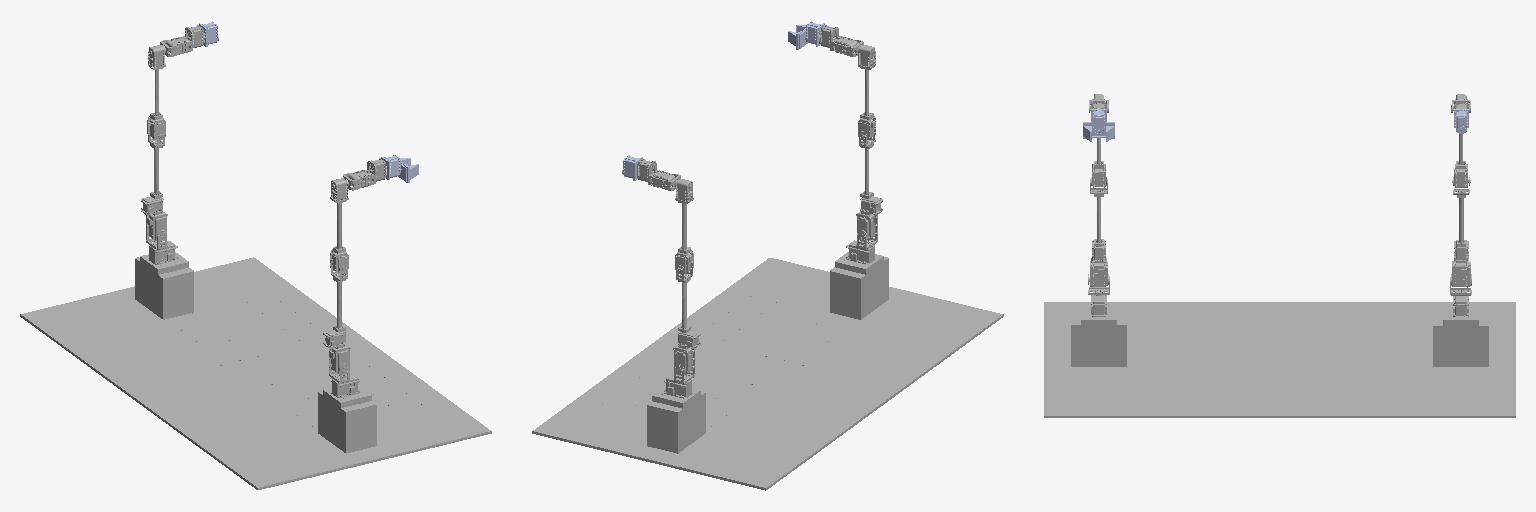
--- Facts derived from the render (not from the file) ---
Views: 3 orthographic renders of the robot side by side, from view 1: azimuth 30°, elevation 25°; view 2: azimuth 150°, elevation 25°; view 3: azimuth 270°, elevation 25°.
Robot: edy_dualarm_description — 21 links, 20 joints (16 revolute, 4 fixed); root link world; default pose: every joint at zero.
Visible links, largest first — view 1: base_link, l_link_5, r_link_5, l_link_3, r_link_3, r_link_7, l_link_7; view 2: base_link, r_link_5, l_link_5, r_link_3, l_link_3, r_link_7, l_link_7; view 3: base_link, r_link_3, l_link_3, r_link_5.
Boxes of the visible links, x1=… form: base_link: x1=20, y1=241, x2=491, y2=489; l_link_5: x1=330, y1=178, x2=348, y2=273; r_link_5: x1=147, y1=45, x2=165, y2=139; l_link_3: x1=323, y1=330, x2=350, y2=374; r_link_3: x1=141, y1=196, x2=167, y2=240; r_link_7: x1=165, y1=25, x2=204, y2=54; l_link_7: x1=348, y1=158, x2=386, y2=187; base_link: x1=532, y1=240, x2=1003, y2=490; r_link_5: x1=675, y1=179, x2=693, y2=273; l_link_5: x1=858, y1=45, x2=875, y2=139; r_link_3: x1=673, y1=330, x2=700, y2=374; l_link_3: x1=856, y1=196, x2=882, y2=240; r_link_7: x1=637, y1=159, x2=674, y2=187; l_link_7: x1=819, y1=25, x2=857, y2=54; base_link: x1=1044, y1=292, x2=1515, y2=417; r_link_3: x1=1452, y1=240, x2=1470, y2=287; l_link_3: x1=1090, y1=240, x2=1107, y2=286; r_link_5: x1=1454, y1=94, x2=1467, y2=187.
Bounding box of the posed robot: 0.665 × 1.17 × 0.7494 m (x, y, z).
Meshes: 17 distinct files referenced, 16 mesh visuals loaded (16 binary STL); not drawn: 1 (reference not matched to a file when rendering).

URDF robot description (edy_dualarm_description):
<robot
  name="edy_dualarm_description">

  <!-- the namespace of controller manager should be the same as the spawner -->
  <gazebo>
    <plugin name="gazebo_ros_control" filename="libgazebo_ros_control.so">
      <robotNamespace>/edy_dualarm</robotNamespace>
      <robotSimType>gazebo_ros_control/DefaultRobotHWSim</robotSimType>
    </plugin>
  </gazebo>

  <link name="root">
    <visual>
      <origin xyz="0 0 0" rpy="0 0 0" />
      <geometry>
        <box size = "0.001 0.001 0.001"/>
      </geometry>
    </visual>
    <collision>
      <origin xyz="0 0 0" rpy="0 0 0" />
      <geometry>
        <box size = "0.001 0.001 0.001"/> 
      </geometry>
    </collision>     
  </link>

  <!-- Used for fixing robot to Gazebo 'base_link' -->
  <link name="world"/> 
  <joint name="connect_root_and_world" type="fixed">
    <parent link="world"/>
    <child link="root"/>
    <axis xyz="0 0 0"/>
    <origin xyz="0 0 0" rpy="0 0 0" />  
  </joint>

  <joint name="root_to_base_link" type="fixed">
    <parent link="root"/>
    <child link="base_link"/>
    <axis xyz="0 0 0"/>
    <origin xyz="0 0 0" rpy="0 0 0" />  
  </joint>

  <link
    name="base_link">
    <inertial>
      <origin
        xyz="-8.44479065753578E-05 -0.000636180312193479 0.0212601142172631"
        rpy="0 0 0" />
      <mass
        value="8.7560068616092" />
      <inertia
        ixx="1.28219832311"
        ixy="-0.00000079180"
        ixz="-0.00011062669"
        iyy="0.21742745749"
        iyz="-0.00059423128"
        izz="1.47062786997" />
    </inertial>
    <visual>
      <origin
        xyz="0 0 0"
        rpy="0 0 0" />
      <geometry>
        <mesh
          filename="package://edy_dualarm_description/meshes/base_link.STL" />
      </geometry>
      <material
        name="">
        <color
          rgba="0.752941176470588 0.752941176470588 0.752941176470588 1" />
      </material>
    </visual>
    <collision>
      <origin
        xyz="0 0 0"
        rpy="0 0 0" />
      <geometry>
        <mesh
          filename="package://edy_dualarm_description/meshes/base_link.STL" />
      </geometry>
    </collision>
  </link>
  <link
    name="l_link_2">
    <inertial>
      <origin
        xyz="1.16549826041368E-05 -2.81399161389806E-05 0.0188265358893286"
        rpy="0 0 0" />
      <mass
        value="0.0114364854550291" />
      <inertia
        ixx="0.00000810165"
        ixy="0.00000001592"
        ixz="-0.00000000221"
        iyy="0.00000390726"
        iyz="0.00000000534"
        izz="0.00000615502" />
    </inertial>
    <visual>
      <origin
        xyz="0 0 0"
        rpy="0 0 0" />
      <geometry>
        <mesh
          filename="package://edy_dualarm_description/meshes/l_link_2.STL" />
      </geometry>
      <material
        name="">
        <color
          rgba="0.752941176470588 0.752941176470588 0.752941176470588 1" />
      </material>
    </visual>
    <collision>
      <origin
        xyz="0 0 0"
        rpy="0 0 0" />
      <geometry>
        <mesh
          filename="package://edy_dualarm_description/meshes/l_link_2.STL" />
      </geometry>
    </collision>
  </link>
  <joint
    name="l_joint_1"
    type="revolute">
    <origin
      xyz="-0.022394 -0.45 0.1679"
      rpy="0 0 0" />
    <parent
      link="base_link" />
    <child
      link="l_link_2" />
    <axis
      xyz="0 0 1" />
    <limit
      lower="-3.14"
      upper="3.14"
      effort="6"
      velocity="2" />
  </joint>
  <link
    name="l_link_3">
    <inertial>
      <origin
        xyz="0.00377950923156622 0.000527304140237717 -0.0366688121472651"
        rpy="0 0 0" />
      <mass
        value="0.131859897677232" />
      <inertia
        ixx="0.00015053028"
        ixy="-0.00000001139"
        ixz="-0.00001916044"
        iyy="0.00015092294"
        iyz="-0.00000034244"
        izz="0.00003716729" />
    </inertial>
    <visual>
      <origin
        xyz="0 0 0"
        rpy="0 0 0" />
      <geometry>
        <mesh
          filename="package://edy_dualarm_description/meshes/l_link_3.STL" />
      </geometry>
      <material
        name="">
        <color
          rgba="0.752941176470588 0.752941176470588 0.752941176470588 1" />
      </material>
    </visual>
    <collision>
      <origin
        xyz="0 0 0"
        rpy="0 0 0" />
      <geometry>
        <mesh
          filename="package://edy_dualarm_description/meshes/l_link_3.STL" />
      </geometry>
    </collision>
  </link>
  <joint
    name="l_joint_2"
    type="revolute">
    <origin
      xyz="0 0 0.0395"
      rpy="3.1416 0 3.1416" />
    <parent
      link="l_link_2" />
    <child
      link="l_link_3" />
    <axis
      xyz="0 1 0" />
    <limit
      lower="-1.57"
      upper="1.57"
      effort="6"
      velocity="2" />
  </joint>
  <link
    name="l_link_4">
    <inertial>
      <origin
        xyz="-2.03305933710318E-06 4.62434070702678E-07 0.08981065169112"
        rpy="0 0 0" />
      <mass
        value="0.0241054510624508" />
      <inertia
        ixx="0.00008394342"
        ixy="0.00"
        ixz="0.00000000430"
        iyy="0.00008259216"
        iyz="0.00000000076"
        izz="0.00000285999" />
    </inertial>
    <visual>
      <origin
        xyz="0 0 0"
        rpy="0 0 0" />
      <geometry>
        <mesh
          filename="package://edy_dualarm_description/meshes/l_link_4.STL" />
      </geometry>
      <material
        name="">
        <color
          rgba="0.752941176470588 0.752941176470588 0.752941176470588 1" />
      </material>
    </visual>
    <collision>
      <origin
        xyz="0 0 0"
        rpy="0 0 0" />
      <geometry>
        <mesh
          filename="package://edy_dualarm_description/meshes/l_link_4.STL" />
      </geometry>
    </collision>
  </link>
  <joint
    name="l_joint_3"
    type="revolute">
    <origin
      xyz="0 0.0005 -0.093245"
      rpy="3.1416 0 3.1416" />
    <parent
      link="l_link_3" />
    <child
      link="l_link_4" />
    <axis
      xyz="0 0 1" />
    <limit
      lower="-3.14"
      upper="3.14"
      effort="6"
      velocity="2" />
  </joint>
  <link
    name="l_link_5">
    <inertial>
      <origin
        xyz="-1.06226888885175E-05 0.000270564059653838 -0.044082243378421"
        rpy="0 0 0" />
      <mass
        value="0.10694" />
      <inertia
        ixx="0.00091666924"
        ixy="0.00000000188"
        ixz="-0.00000439289"
        iyy="0.00091692418"
        iyz="-0.00000016121"
        izz="0.00001598568" />
    </inertial>
    <visual>
      <origin
        xyz="0 0 0"
        rpy="0 0 0" />
      <geometry>
        <mesh
          filename="package://edy_dualarm_description/meshes/l_link_5.STL" />
      </geometry>
      <material
        name="">
        <color
          rgba="0.752941176470588 0.752941176470588 0.752941176470588 1" />
      </material>
    </visual>
    <collision>
      <origin
        xyz="0 0 0"
        rpy="0 0 0" />
      <geometry>
        <mesh
          filename="package://edy_dualarm_description/meshes/l_link_5.STL" />
      </geometry>
    </collision>
  </link>
  <joint
    name="l_joint_4"
    type="revolute">
    <origin
      xyz="0 0 0.176"
      rpy="3.1416 0 0" />
    <parent
      link="l_link_4" />
    <child
      link="l_link_5" />
    <axis
      xyz="0 1 0" />
    <limit
      lower="-1.57"
      upper="1.57"
      effort="6"
      velocity="2" />
  </joint>
  <link
    name="l_link_6">
    <inertial>
      <origin
        xyz="-3.18818024536149E-07 2.26992259699799E-06 0.0109195452878323"
        rpy="0 0 0" />
      <mass
        value="0.00729134298782244" />
      <inertia
        ixx="0.00000122580"
        ixy="0.00"
        ixz="-0.00000000003"
        iyy="0.00000323550"
        iyz="-0.00000000016"
        izz="0.00000287654" />
    </inertial>
    <visual>
      <origin
        xyz="0 0 0"
        rpy="0 0 0" />
      <geometry>
        <mesh
          filename="package://edy_dualarm_description/meshes/l_link_6.STL" />
      </geometry>
      <material
        name="">
        <color
          rgba="0.752941176470588 0.752941176470588 0.752941176470588 1" />
      </material>
    </visual>
    <collision>
      <origin
        xyz="0 0 0"
        rpy="0 0 0" />
      <geometry>
        <mesh
          filename="package://edy_dualarm_description/meshes/l_link_6.STL" />
      </geometry>
    </collision>
  </link>
  <joint
    name="l_joint_5"
    type="revolute">
    <origin
      xyz="0.02087 0.00025 -0.2213"
      rpy="-1.5708 0 -1.5708" />
    <parent
      link="l_link_5" />
    <child
      link="l_link_6" />
    <axis
      xyz="0 0 1" />
    <limit
      lower="-3.14"
      upper="3.14"
      effort="6"
      velocity="2" />
  </joint>
  <link
    name="l_link_7">
    <inertial>
      <origin
        xyz="-0.000229999999992903 -0.0050249094346575 0.0429672230397742"
        rpy="0 0 0" />
      <mass
        value="0.09304" />
      <inertia
        ixx="0.00008300957"
        ixy="-0.00000022060"
        ixz="0.00000107176"
        iyy="0.00007577402"
        iyz="-0.00001375580"
        izz="0.00002337891" />
    </inertial>
    <visual>
      <origin
        xyz="0 0 0"
        rpy="0 0 0" />
      <geometry>
        <mesh
          filename="package://edy_dualarm_description/meshes/l_link_7.STL" />
      </geometry>
      <material
        name="">
        <color
          rgba="0.752941176470588 0.752941176470588 0.752941176470588 1" />
      </material>
    </visual>
    <collision>
      <origin
        xyz="0 0 0"
        rpy="0 0 0" />
      <geometry>
        <mesh
          filename="package://edy_dualarm_description/meshes/l_link_7.STL" />
      </geometry>
    </collision>
  </link>
  <joint
    name="l_joint_6"
    type="revolute">
    <origin
      xyz="0 0 0.026"
      rpy="0 0 3.1416" />
    <parent
      link="l_link_6" />
    <child
      link="l_link_7" />
    <axis
      xyz="1 0 0" />
    <limit
      lower="-1.57"
      upper="1.57"
      effort="6"
      velocity="2" />
  </joint>
  <link
    name="l_link_8">
    <inertial>
      <origin
        xyz="-2.44942954807925E-13 0.0106481613936442 0.00198661888805018"
        rpy="0 0 0" />
      <mass
        value="0.04788" />
      <inertia
        ixx="0.00001520287"
        ixy="0.00000001101"
        ixz="0.00000000425"
        iyy="0.00000927752"
        iyz="0.00000007311"
        izz="0.00001238747" />
    </inertial>
    <visual>
      <origin
        xyz="0 0 0"
        rpy="0 0 0" />
      <geometry>
        <mesh
          filename="package://edy_dualarm_description/meshes/l_link_8.STL" />
      </geometry>
      <material
        name="">
        <color
          rgba="0.792156862745098 0.819607843137255 0.933333333333333 1" />
      </material>
    </visual>
    <collision>
      <origin
        xyz="0 0 0"
        rpy="0 0 0" />
      <geometry>
        <mesh
          filename="package://edy_dualarm_description/meshes/l_link_8.STL" />
      </geometry>
    </collision>
  </link>
  <joint
    name="l_joint_7"
    type="revolute">
    <origin
      xyz="-0.00023 0 0.08337"
      rpy="0 0 3.1416" />
    <parent
      link="l_link_7" />
    <child
      link="l_link_8" />
    <axis
      xyz="0 0 1" />
    <limit
      lower="-3.14"
      upper="3.14"
      effort="6"
      velocity="2" />
  </joint>
  <link
    name="l_link_9">
    <inertial>
      <origin
        xyz="2.29594121492482E-13 2.02513058054077E-05 0.0140853523121591"
        rpy="0 0 0" />
      <mass
        value="0.04238" />
      <inertia
        ixx="0.00001004655"
        ixy="0.00"
        ixz="0.00"
        iyy="0.00003436417"
        iyz="-0.00000000968"
        izz="0.00003361882" />
    </inertial>
    <visual>
      <origin
        xyz="0 0 0"
        rpy="0 0 0" />
      <geometry>
        <mesh
          filename="package://edy_dualarm_description/meshes/l_link_9.STL" />
      </geometry>
      <material
        name="">
        <color
          rgba="0.792156862745098 0.819607843137255 0.933333333333333 1" />
      </material>
    </visual>
    <collision>
      <origin
        xyz="0 0 0"
        rpy="0 0 0" />
      <geometry>
        <mesh
          filename="package://edy_dualarm_description/meshes/l_link_9.STL" />
      </geometry>
    </collision>
  </link>
  <joint
    name="l_joint_8"
    type="revolute">
    <origin
      xyz="0 0 0.039"
      rpy="0 0 3.1416" />
    <parent
      link="l_link_8" />
    <child
      link="l_link_9" />
    <axis
      xyz="0 0 1" />
    <limit
      lower="-3.14"
      upper="3.14"
      effort="6"
      velocity="2" />
  </joint>
  <link
    name="l_link_eef" />
  <joint
    name="l_joint_eef"
    type="fixed">
    <origin
      xyz="0 0 0.06739"
      rpy="0 0 0" />
    <parent
      link="l_link_8" />
    <child
      link="l_link_eef" />
    <axis
      xyz="0 0 0" />
  </joint>
  <link
    name="r_link_2">
    <inertial>
      <origin
        xyz="1.16549826068013E-05 -2.81399161204954E-05 0.0188265358893318"
        rpy="0 0 0" />
      <mass
        value="0.011436485455094" />
      <inertia
        ixx="0.00000810165"
        ixy="0.00000001592"
        ixz="-0.00000000221"
        iyy="0.00000390726"
        iyz="0.00000000534"
        izz="0.00000615502" />
    </inertial>
    <visual>
      <origin
        xyz="0 0 0"
        rpy="0 0 0" />
      <geometry>
        <mesh
          filename="package://edy_dualarm_description/meshes/r_link_2.STL" />
      </geometry>
      <material
        name="">
        <color
          rgba="0.752941176470588 0.752941176470588 0.752941176470588 1" />
      </material>
    </visual>
    <collision>
      <origin
        xyz="0 0 0"
        rpy="0 0 0" />
      <geometry>
        <mesh
          filename="package://edy_dualarm_description/meshes/r_link_2.STL" />
      </geometry>
    </collision>
  </link>
  <joint
    name="r_joint_1"
    type="revolute">
    <origin
      xyz="-0.022394 0.45 0.1669"
      rpy="0 0 0" />
    <parent
      link="base_link" />
    <child
      link="r_link_2" />
    <axis
      xyz="0 0 1" />
    <limit
      lower="-3.14"
      upper="3.14"
      effort="6"
      velocity="2" />
  </joint>
  <link
    name="r_link_3">
    <inertial>
      <origin
        xyz="0.00377950923110637 0.000527304140288232 -0.0366688121480503"
        rpy="0 0 0" />
      <mass
        value="0.131859897681141" />
      <inertia
        ixx="0.00015053028"
        ixy="-0.00000001139"
        ixz="-0.00001916044"
        iyy="0.00015092294"
        iyz="-0.00000034244"
        izz="0.00003716729" />
    </inertial>
    <visual>
      <origin
        xyz="0 0 0"
        rpy="0 0 0" />
      <geometry>
        <mesh
          filename="package://edy_dualarm_description/meshes/r_link_3.STL" />
      </geometry>
      <material
        name="">
        <color
          rgba="0.752941176470588 0.752941176470588 0.752941176470588 1" />
      </material>
    </visual>
    <collision>
      <origin
        xyz="0 0 0"
        rpy="0 0 0" />
      <geometry>
        <mesh
          filename="package://edy_dualarm_description/meshes/r_link_3.STL" />
      </geometry>
    </collision>
  </link>
  <joint
    name="r_joint_2"
    type="revolute">
    <origin
      xyz="0 0 0.0395"
      rpy="3.1416 0 3.1416" />
    <parent
      link="r_link_2" />
    <child
      link="r_link_3" />
    <axis
      xyz="0 1 0" />
    <limit
      lower="-1.57"
      upper="1.57"
      effort="6"
      velocity="2" />
  </joint>
  <link
    name="r_link_4">
    <inertial>
      <origin
        xyz="-2.03305933710318E-06 4.62434070369611E-07 0.0898106516911197"
        rpy="0 0 0" />
      <mass
        value="0.0241054510624508" />
      <inertia
        ixx="0.00008394342"
        ixy="0.00"
        ixz="0.00000000430"
        iyy="0.00008259216"
        iyz="0.00000000076"
        izz="0.00000285999" />
    </inertial>
    <visual>
      <origin
        xyz="0 0 0"
        rpy="0 0 0" />
      <geometry>
        <mesh
          filename="package://edy_dualarm_description/meshes/r_link_4.STL" />
      </geometry>
      <material
        name="">
        <color
          rgba="0.752941176470588 0.752941176470588 0.752941176470588 1" />
      </material>
    </visual>
    <collision>
      <origin
        xyz="0 0 0"
        rpy="0 0 0" />
      <geometry>
        <mesh
          filename="package://edy_dualarm_description/meshes/r_link_4.STL" />
      </geometry>
    </collision>
  </link>
  <joint
    name="r_joint_3"
    type="revolute">
    <origin
      xyz="0 0.0005 -0.093245"
      rpy="3.1416 0 3.1416" />
    <parent
      link="r_link_3" />
    <child
      link="r_link_4" />
    <axis
      xyz="0 0 1" />
    <limit
      lower="-3.14"
      upper="3.14"
      effort="6"
      velocity="2" />
  </joint>
  <link
    name="r_link_5">
    <inertial>
      <origin
        xyz="-1.06226888925143E-05 0.000270564059653644 -0.0440822433784202"
        rpy="0 0 0" />
      <mass
        value="0.10694" />
      <inertia
        ixx="0.00091666924"
        ixy="0.00000000188"
        ixz="-0.00000439289"
        iyy="0.00091692418"
        iyz="-0.00000016121"
        izz="0.00001598568" />
    </inertial>
    <visual>
      <origin
        xyz="0 0 0"
        rpy="0 0 0" />
      <geometry>
        <mesh
          filename="package://edy_dualarm_description/meshes/r_link_5.STL" />
      </geometry>
      <material
        name="">
        <color
          rgba="0.752941176470588 0.752941176470588 0.752941176470588 1" />
      </material>
    </visual>
    <collision>
      <origin
        xyz="0 0 0"
        rpy="0 0 0" />
      <geometry>
        <mesh
          filename="package://edy_dualarm_description/meshes/r_link_5.STL" />
      </geometry>
    </collision>
  </link>
  <joint
    name="r_joint_4"
    type="revolute">
    <origin
      xyz="0 0 0.176"
      rpy="3.1416 0 0" />
    <parent
      link="r_link_4" />
    <child
      link="r_link_5" />
    <axis
      xyz="0 1 0" />
    <limit
      lower="-1.57"
      upper="1.57"
      effort="6"
      velocity="2" />
  </joint>
  <link
    name="r_link_6">
    <inertial>
      <origin
        xyz="-3.18818018540945E-07 2.26992259722003E-06 0.0109195452878321"
        rpy="0 0 0" />
      <mass
        value="0.00729134298782232" />
      <inertia
        ixx="0.00000122580"
        ixy="0.00"
        ixz="-0.00000000003"
        iyy="0.00000323550"
        iyz="-0.00000000016"
        izz="0.00000287654" />
    </inertial>
    <visual>
      <origin
        xyz="0 0 0"
        rpy="0 0 0" />
      <geometry>
        <mesh
          filename="package://edy_dualarm_description/meshes/r_link_6.STL" />
      </geometry>
      <material
        name="">
        <color
          rgba="0.752941176470588 0.752941176470588 0.752941176470588 1" />
      </material>
    </visual>
    <collision>
      <origin
        xyz="0 0 0"
        rpy="0 0 0" />
      <geometry>
        <mesh
          filename="package://edy_dualarm_description/meshes/r_link_6.STL" />
      </geometry>
    </collision>
  </link>
  <joint
    name="r_joint_5"
    type="revolute">
    <origin
      xyz="0.02087 0.00025 -0.2213"
      rpy="-1.5708 0 -1.5708" />
    <parent
      link="r_link_5" />
    <child
      link="r_link_6" />
    <axis
      xyz="0 0 1" />
    <limit
      lower="-3.14"
      upper="3.14"
      effort="6"
      velocity="2" />
  </joint>
  <link
    name="r_link_7">
    <inertial>
      <origin
        xyz="-0.000229999999997732 -0.00502490943466483 0.0429672230397593"
        rpy="0 0 0" />
      <mass
        value="0.09304" />
      <inertia
        ixx="0.00008300957"
        ixy="-0.00000022060"
        ixz="0.00000107176"
        iyy="0.00007577402"
        iyz="-0.00001375580"
        izz="0.00002337891" />
    </inertial>
    <visual>
      <origin
        xyz="0 0 0"
        rpy="0 0 0" />
      <geometry>
        <mesh
          filename="package://edy_dualarm_description/meshes/r_link_7.STL" />
      </geometry>
      <material
        name="">
        <color
          rgba="0.752941176470588 0.752941176470588 0.752941176470588 1" />
      </material>
    </visual>
    <collision>
      <origin
        xyz="0 0 0"
        rpy="0 0 0" />
      <geometry>
        <mesh
          filename="package://edy_dualarm_description/meshes/r_link_7.STL" />
      </geometry>
    </collision>
  </link>
  <joint
    name="r_joint_6"
    type="revolute">
    <origin
      xyz="0 0 0.026"
      rpy="0 0 3.1416" />
    <parent
      link="r_link_6" />
    <child
      link="r_link_7" />
    <axis
      xyz="1 0 0" />
    <limit
      lower="-1.57"
      upper="1.57"
      effort="6"
      velocity="2" />
  </joint>
  <link
    name="r_link_8">
    <inertial>
      <origin
        xyz="-2.35589325825458E-13 0.0106481613936613 0.00198661888802865"
        rpy="0 0 0" />
      <mass
        value="0.04788" />
      <inertia
        ixx="0.00001520287"
        ixy="0.00000001101"
        ixz="0.00000000425"
        iyy="0.00000927752"
        iyz="0.00000007311"
        izz="0.00001238747" />
    </inertial>
    <visual>
      <origin
        xyz="0 0 0"
        rpy="0 0 0" />
      <geometry>
        <mesh
          filename="package://edy_dualarm_description/meshes/r_link_8.STL" />
      </geometry>
      <material
        name="">
        <color
          rgba="0.792156862745098 0.819607843137255 0.933333333333333 1" />
      </material>
    </visual>
    <collision>
      <origin
        xyz="0 0 0"
        rpy="0 0 0" />
      <geometry>
        <mesh
          filename="package://edy_dualarm_description/meshes/r_link_8.STL" />
      </geometry>
    </collision>
  </link>
  <joint
    name="r_joint_7"
    type="revolute">
    <origin
      xyz="-0.00023 0 0.08337"
      rpy="0 0 3.1416" />
    <parent
      link="r_link_7" />
    <child
      link="r_link_8" />
    <axis
      xyz="0 0 1" />
    <limit
      lower="-3.14"
      upper="3.14"
      effort="6"
      velocity="2" />
  </joint>
  <link
    name="r_link_9">
    <inertial>
      <origin
        xyz="2.29594121492482E-13 2.02513058054077E-05 0.0140853523121591"
        rpy="0 0 0" />
      <mass
        value="0.0423839787748426" />
      <inertia
        ixx="0.00001004655"
        ixy="0.00"
        ixz="0.00"
        iyy="0.00003436417"
        iyz="-0.00000000968"
        izz="0.00003361882" />
    </inertial>
    <visual>
      <origin
        xyz="0 0 0"
        rpy="0 0 0" />
      <geometry>
        <mesh
          filename="package://edy_dualarm_description/meshes/r_link_9.STL" />
      </geometry>
      <material
        name="">
        <color
          rgba="0.792156862745098 0.819607843137255 0.933333333333333 1" />
      </material>
    </visual>
    <collision>
      <origin
        xyz="0 0 0"
        rpy="0 0 0" />
      <geometry>
        <mesh
          filename="package://edy_dualarm_description/meshes/r_link_9.STL" />
      </geometry>
    </collision>
  </link>
  <joint
    name="r_joint_8"
    type="revolute">
    <origin
      xyz="0 0 0.039"
      rpy="0 0 3.1416" />
    <parent
      link="r_link_8" />
    <child
      link="r_link_9" />
    <axis
      xyz="0 0 1" />
    <limit
      lower="-3.14"
      upper="3.14"
      effort="6"
      velocity="2" />
  </joint>
  <link
    name="r_link_eef" />
  <joint
    name="r_joint_eef"
    type="fixed">
    <origin
      xyz="0 0 0.06739"
      rpy="0 0 0" />
    <parent
      link="r_link_8" />
    <child
      link="r_link_eef" />
    <axis
      xyz="0 0 0" />
  </joint>

  <gazebo reference="base_link">
    <turnGravityOff>False</turnGravityOff>
    <selfCollide>False</selfCollide>
  </gazebo>
  <gazebo reference="l_link_2">
    <turnGravityOff>False</turnGravityOff>
    <selfCollide>False</selfCollide>
  </gazebo>
  <gazebo reference="l_link_3">
    <turnGravityOff>False</turnGravityOff>
    <selfCollide>False</selfCollide>
  </gazebo>
  <gazebo reference="l_link_4">
    <turnGravityOff>False</turnGravityOff>
    <selfCollide>False</selfCollide>
  </gazebo>
  <gazebo reference="l_link_5">
    <turnGravityOff>False</turnGravityOff>
    <selfCollide>False</selfCollide>
  </gazebo>
  <gazebo reference="l_link_6">
    <turnGravityOff>False</turnGravityOff>
    <selfCollide>False</selfCollide>
  </gazebo>
  <gazebo reference="l_link_7">
    <turnGravityOff>False</turnGravityOff>
    <selfCollide>False</selfCollide>
  </gazebo>
  <gazebo reference="l_link_8">
    <turnGravityOff>False</turnGravityOff>
    <selfCollide>False</selfCollide>
  </gazebo>
  <gazebo reference="l_link_9">
    <turnGravityOff>False</turnGravityOff>
    <selfCollide>False</selfCollide>
  </gazebo>
  <gazebo reference="r_link_2">
    <turnGravityOff>False</turnGravityOff>
    <selfCollide>False</selfCollide>
  </gazebo>
  <gazebo reference="r_link_3">
    <turnGravityOff>False</turnGravityOff>
    <selfCollide>False</selfCollide>
  </gazebo>
  <gazebo reference="r_link_4">
    <turnGravityOff>False</turnGravityOff>
    <selfCollide>False</selfCollide>
  </gazebo>
  <gazebo reference="r_link_5">
    <turnGravityOff>False</turnGravityOff>
    <selfCollide>False</selfCollide>
  </gazebo>
  <gazebo reference="r_link_6">
    <turnGravityOff>False</turnGravityOff>
    <selfCollide>False</selfCollide>
  </gazebo>
  <gazebo reference="r_link_7">
    <turnGravityOff>False</turnGravityOff>
    <selfCollide>False</selfCollide>
  </gazebo>
  <gazebo reference="r_link_8">
    <turnGravityOff>False</turnGravityOff>
    <selfCollide>False</selfCollide>
  </gazebo>
  <gazebo reference="r_link_9">
    <turnGravityOff>False</turnGravityOff>
    <selfCollide>False</selfCollide>
  </gazebo>

  <gazebo reference="l_joint_1">
    <implicitSpringDamper>True</implicitSpringDamper>
  </gazebo>
  <gazebo reference="l_joint_2">
    <implicitSpringDamper>True</implicitSpringDamper>
  </gazebo>
  <gazebo reference="l_joint_3">
    <implicitSpringDamper>True</implicitSpringDamper>
  </gazebo>
  <gazebo reference="l_joint_4">
    <implicitSpringDamper>True</implicitSpringDamper>
  </gazebo>
  <gazebo reference="l_joint_5">
    <implicitSpringDamper>True</implicitSpringDamper>
  </gazebo>
  <gazebo reference="l_joint_6">
    <implicitSpringDamper>True</implicitSpringDamper>
  </gazebo>
  <gazebo reference="l_joint_7">
    <implicitSpringDamper>True</implicitSpringDamper>
  </gazebo>
  <gazebo reference="l_joint_8">
    <implicitSpringDamper>True</implicitSpringDamper>
  </gazebo>
  <gazebo reference="r_joint_1">
    <implicitSpringDamper>True</implicitSpringDamper>
  </gazebo>
  <gazebo reference="r_joint_2">
    <implicitSpringDamper>True</implicitSpringDamper>
  </gazebo>
  <gazebo reference="r_joint_3">
    <implicitSpringDamper>True</implicitSpringDamper>
  </gazebo>
  <gazebo reference="r_joint_4">
    <implicitSpringDamper>True</implicitSpringDamper>
  </gazebo>
  <gazebo reference="r_joint_5">
    <implicitSpringDamper>True</implicitSpringDamper>
  </gazebo>
  <gazebo reference="r_joint_6">
    <implicitSpringDamper>True</implicitSpringDamper>
  </gazebo>
  <gazebo reference="r_joint_7">
    <implicitSpringDamper>True</implicitSpringDamper>
  </gazebo>
  <gazebo reference="r_joint_8">
    <implicitSpringDamper>True</implicitSpringDamper>
  </gazebo>

  <!-- transmission that link actuators to joints-->
  <transmission name="l_tran1">
    <type>transmission_interface/SimpleTransmission</type>
    <joint name="l_joint_1">
      <hardwareInterface>EffortJointInterface</hardwareInterface>
    </joint>
    <actuator name="l_motor_1">
      <hardwareInterface>EffortJointInterface</hardwareInterface>
      <mechanicalReduction>1</mechanicalReduction>
    </actuator>
  </transmission>

  <transmission name="l_tran2">
    <type>transmission_interface/SimpleTransmission</type>
    <joint name="l_joint_2">
      <hardwareInterface>EffortJointInterface</hardwareInterface>
    </joint>
    <actuator name="l_motor_2">
      <hardwareInterface>EffortJointInterface</hardwareInterface>
      <mechanicalReduction>1</mechanicalReduction>
    </actuator>
  </transmission>

  <transmission name="l_tran3">
    <type>transmission_interface/SimpleTransmission</type>
    <joint name="l_joint_3">
      <hardwareInterface>EffortJointInterface</hardwareInterface>
    </joint>
    <actuator name="l_motor_3">
      <hardwareInterface>EffortJointInterface</hardwareInterface>
      <mechanicalReduction>1</mechanicalReduction>
    </actuator>
  </transmission>

  <transmission name="l_tran4">
    <type>transmission_interface/SimpleTransmission</type>
    <joint name="l_joint_4">
      <hardwareInterface>EffortJointInterface</hardwareInterface>
    </joint>
    <actuator name="l_motor_4">
      <hardwareInterface>EffortJointInterface</hardwareInterface>
      <mechanicalReduction>1</mechanicalReduction>
    </actuator>
  </transmission>

  <transmission name="l_tran5">
    <type>transmission_interface/SimpleTransmission</type>
    <joint name="l_joint_5">
      <hardwareInterface>EffortJointInterface</hardwareInterface>
    </joint>
    <actuator name="l_motor_5">
      <hardwareInterface>EffortJointInterface</hardwareInterface>
      <mechanicalReduction>1</mechanicalReduction>
    </actuator>
  </transmission>

  <transmission name="l_tran6">
    <type>transmission_interface/SimpleTransmission</type>
    <joint name="l_joint_6">
      <hardwareInterface>EffortJointInterface</hardwareInterface>
    </joint>
    <actuator name="l_motor_6">
      <hardwareInterface>EffortJointInterface</hardwareInterface>
      <mechanicalReduction>1</mechanicalReduction>
    </actuator>
  </transmission>

  <transmission name="l_tran7">
    <type>transmission_interface/SimpleTransmission</type>
    <joint name="l_joint_7">
      <hardwareInterface>EffortJointInterface</hardwareInterface>
    </joint>
    <actuator name="l_motor_7">
      <hardwareInterface>EffortJointInterface</hardwareInterface>
      <mechanicalReduction>1</mechanicalReduction>
    </actuator>
  </transmission>

  <transmission name="l_tran8">
    <type>transmission_interface/SimpleTransmission</type>
    <joint name="l_joint_8">
      <hardwareInterface>EffortJointInterface</hardwareInterface>
    </joint>
    <actuator name="l_motor_8">
      <hardwareInterface>EffortJointInterface</hardwareInterface>
      <mechanicalReduction>1</mechanicalReduction>
    </actuator>
  </transmission>
 <transmission name="r_tran1">
    <type>transmission_interface/SimpleTransmission</type>
    <joint name="r_joint_1">
      <hardwareInterface>EffortJointInterface</hardwareInterface>
    </joint>
    <actuator name="r_motor_1">
      <hardwareInterface>EffortJointInterface</hardwareInterface>
      <mechanicalReduction>1</mechanicalReduction>
    </actuator>
  </transmission>

  <transmission name="r_tran2">
    <type>transmission_interface/SimpleTransmission</type>
    <joint name="r_joint_2">
      <hardwareInterface>EffortJointInterface</hardwareInterface>
    </joint>
    <actuator name="r_motor_2">
      <hardwareInterface>EffortJointInterface</hardwareInterface>
      <mechanicalReduction>1</mechanicalReduction>
    </actuator>
  </transmission>

  <transmission name="r_tran3">
    <type>transmission_interface/SimpleTransmission</type>
    <joint name="r_joint_3">
      <hardwareInterface>EffortJointInterface</hardwareInterface>
    </joint>
    <actuator name="r_motor_3">
      <hardwareInterface>EffortJointInterface</hardwareInterface>
      <mechanicalReduction>1</mechanicalReduction>
    </actuator>
  </transmission>

  <transmission name="r_tran4">
    <type>transmission_interface/SimpleTransmission</type>
    <joint name="r_joint_4">
      <hardwareInterface>EffortJointInterface</hardwareInterface>
    </joint>
    <actuator name="r_motor_4">
      <hardwareInterface>EffortJointInterface</hardwareInterface>
      <mechanicalReduction>1</mechanicalReduction>
    </actuator>
  </transmission>

  <transmission name="r_tran5">
    <type>transmission_interface/SimpleTransmission</type>
    <joint name="r_joint_5">
      <hardwareInterface>EffortJointInterface</hardwareInterface>
    </joint>
    <actuator name="r_motor_5">
      <hardwareInterface>EffortJointInterface</hardwareInterface>
      <mechanicalReduction>1</mechanicalReduction>
    </actuator>
  </transmission>

  <transmission name="r_tran6">
    <type>transmission_interface/SimpleTransmission</type>
    <joint name="r_joint_6">
      <hardwareInterface>EffortJointInterface</hardwareInterface>
    </joint>
    <actuator name="r_motor_6">
      <hardwareInterface>EffortJointInterface</hardwareInterface>
      <mechanicalReduction>1</mechanicalReduction>
    </actuator>
  </transmission>

  <transmission name="r_tran7">
    <type>transmission_interface/SimpleTransmission</type>
    <joint name="r_joint_7">
      <hardwareInterface>EffortJointInterface</hardwareInterface>
    </joint>
    <actuator name="r_motor_7">
      <hardwareInterface>EffortJointInterface</hardwareInterface>
      <mechanicalReduction>1</mechanicalReduction>
    </actuator>
  </transmission>

  <transmission name="r_tran8">
    <type>transmission_interface/SimpleTransmission</type>
    <joint name="r_joint_8">
      <hardwareInterface>EffortJointInterface</hardwareInterface>
    </joint>
    <actuator name="r_motor_8">
      <hardwareInterface>EffortJointInterface</hardwareInterface>
      <mechanicalReduction>1</mechanicalReduction>
    </actuator>
  </transmission>

</robot>
